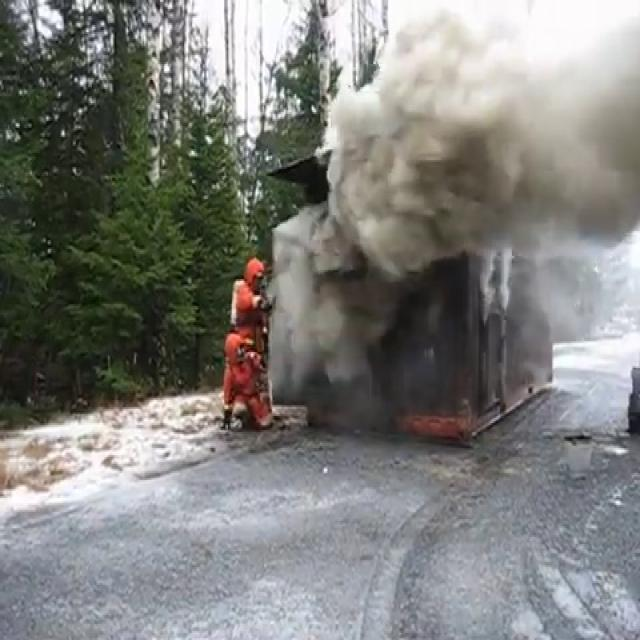Smoke: (285, 0, 640, 414)
